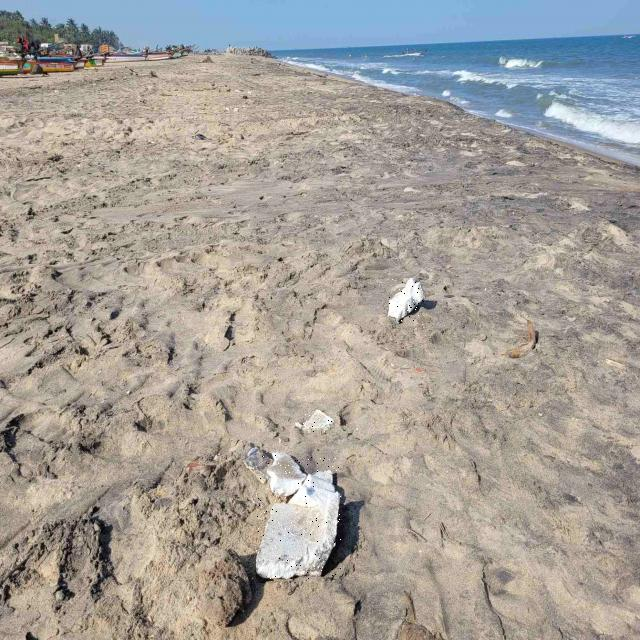styrofoam: (256, 453, 341, 579), (389, 278, 424, 322), (302, 410, 333, 432)
